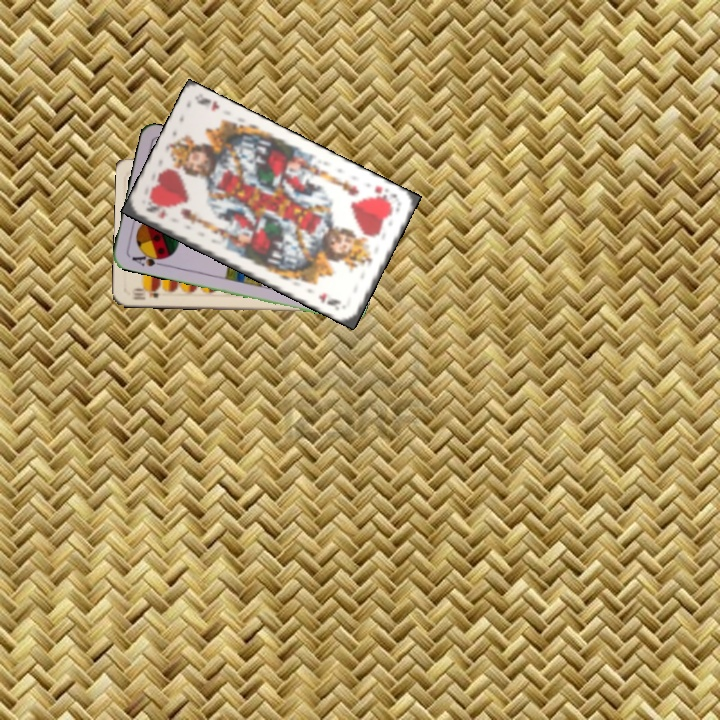E10: (128, 283, 161, 302)
HK: (370, 182, 401, 204), (142, 201, 169, 222)
SA: (128, 248, 168, 269)
